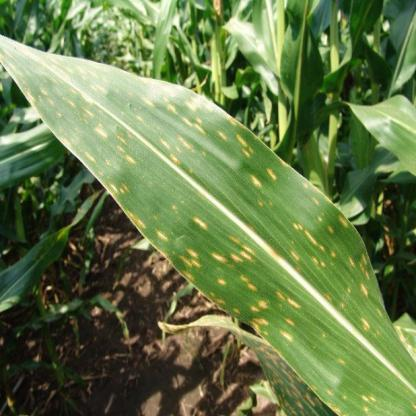Corn leaf blight: (5, 33, 410, 414)
